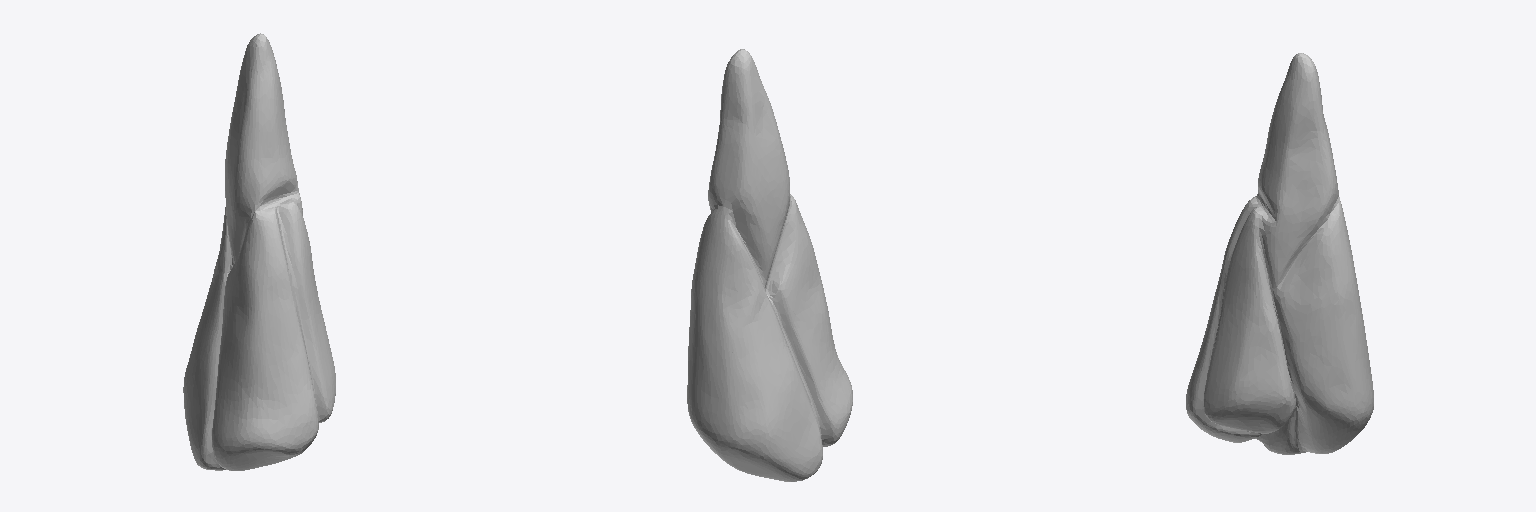
The model's file is CL_hiaku_dir1_LOD1.obj.
3 views of the same model, side by side, from view 1: azimuth 30°, elevation 25°; view 2: azimuth 150°, elevation 25°; view 3: azimuth 270°, elevation 25° (orthographic).
Bounding box in the file's own units: 0.3088 × 1.07 × 0.437.